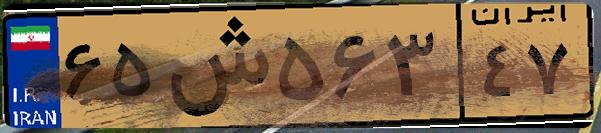3: (385, 28, 445, 110)
4: (475, 38, 525, 113)
5: (270, 28, 330, 110), (110, 28, 158, 98)
6: (330, 28, 385, 110), (57, 26, 110, 100)
7: (525, 38, 570, 115)
ش: (158, 12, 270, 120)
